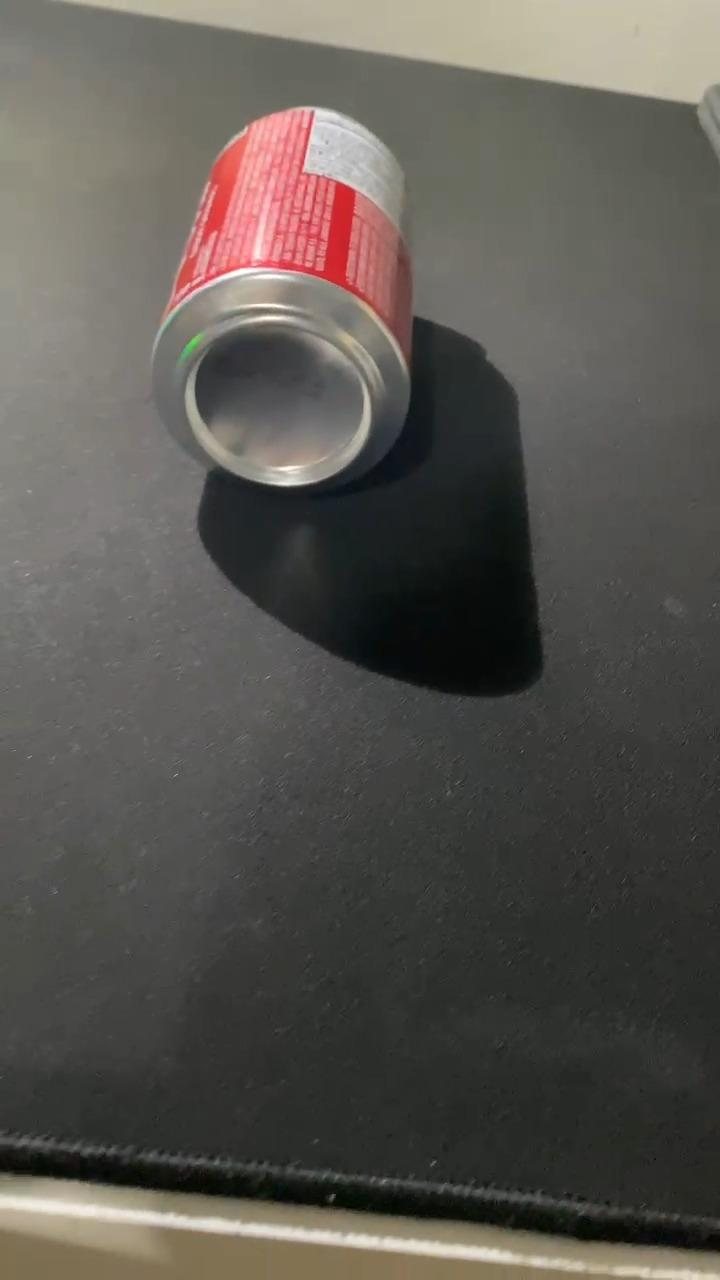coke: (146, 110, 422, 488)
